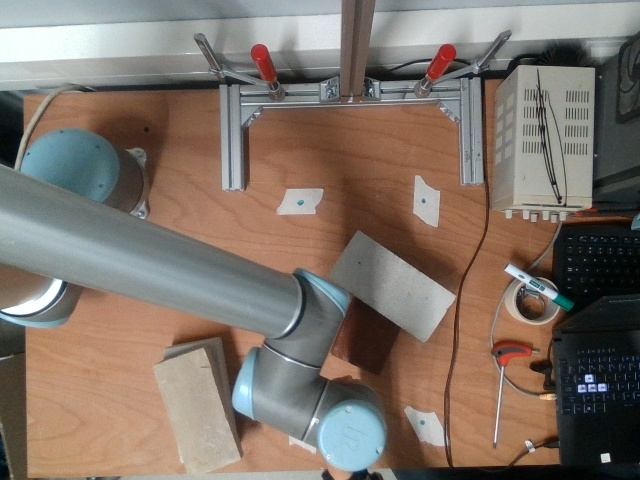brick: (150, 351, 240, 478)
